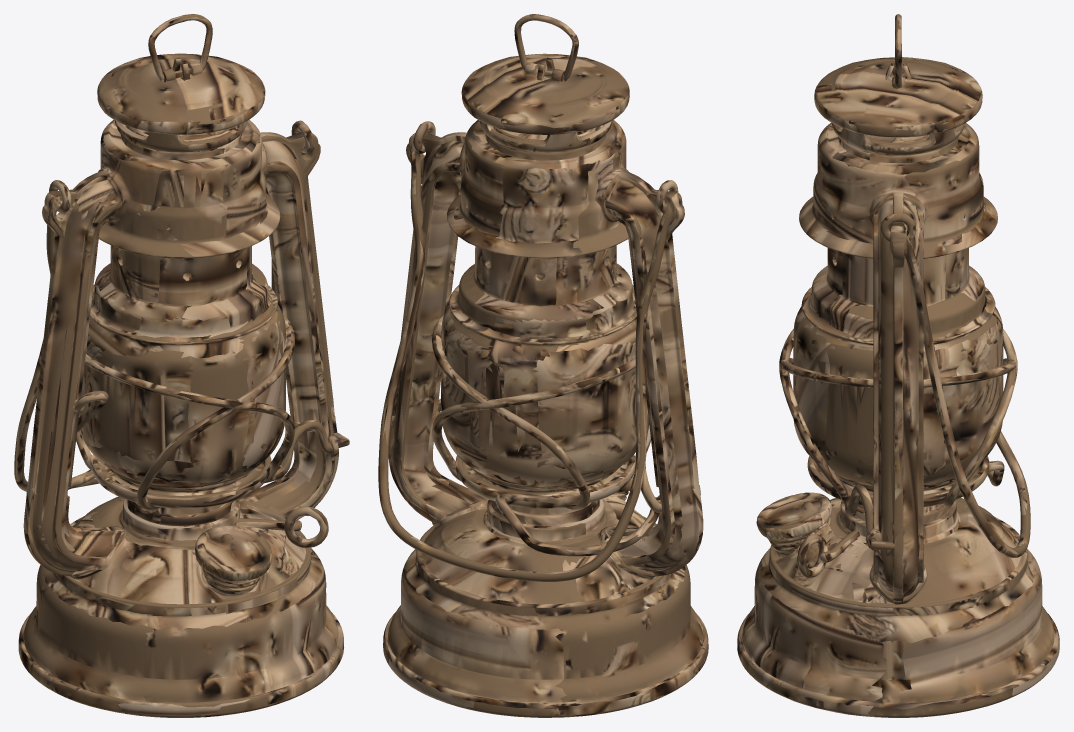
The model's file is flashlight.fbx.
3 renders of one model, left to right at view 1: azimuth 30°, elevation 25°; view 2: azimuth 150°, elevation 25°; view 3: azimuth 270°, elevation 25°, orthographic.
Parts seen in each view (by area): view 1: flashlight; view 2: flashlight; view 3: flashlight.
Part boxes in pixels (x1,y1,x2,y2): flashlight: (14,14,349,717); flashlight: (378,14,708,717); flashlight: (737,14,1059,717).
Size of the model in its own units: 183 by 357 by 165.
